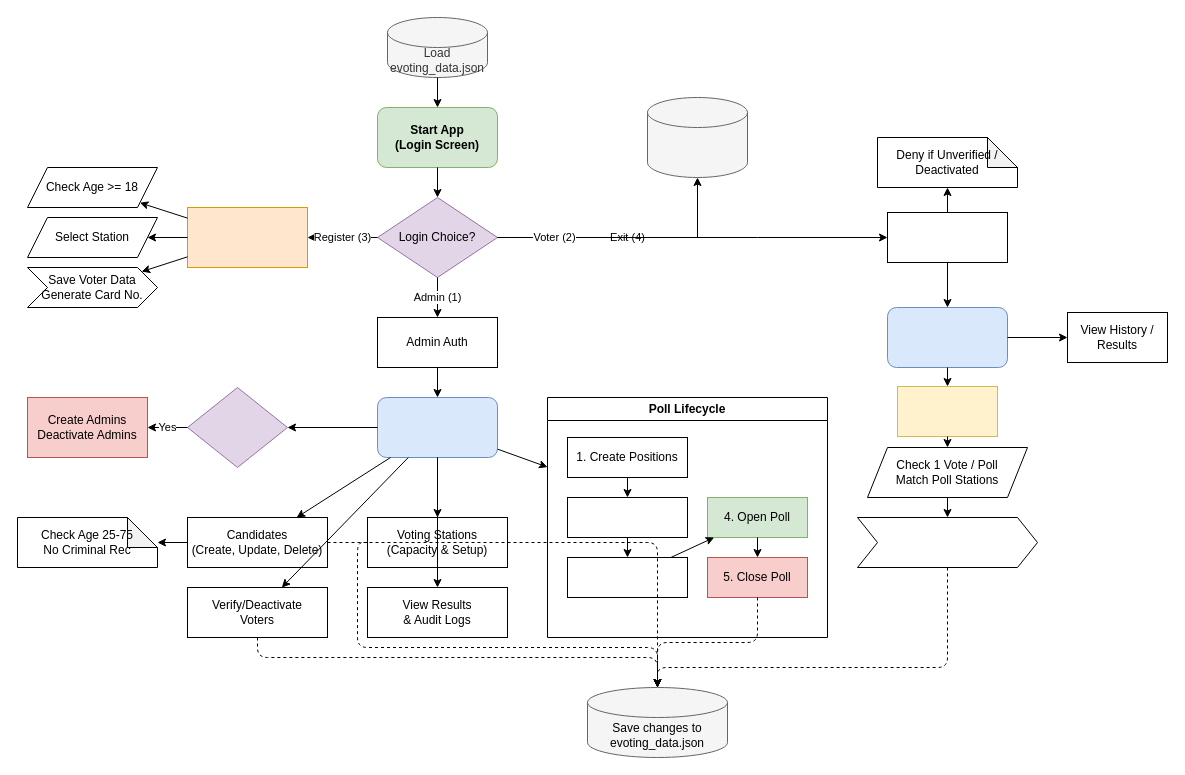
This 1185x775 diagram has some shape labels left out. The shapes that lost their labels are listed below. From the top down, each one's centre as x and y in pixels, then its label:
At (697,137): "Exit App & Save Data".
At (247,237): "Register Voter".
At (947,237): "Voter Auth".
At (947,337): "Voter Dashboard".
At (237,427): "Super Admin?".
At (437,427): "Admin Dashboard (Many Options)".
At (947,411): "Cast Vote".
At (627,517): "2. Create Poll (Add positions & stns)".
At (947,542): "Record Vote as SHA256 Hash".
At (627,577): "3. Assign Cands".
